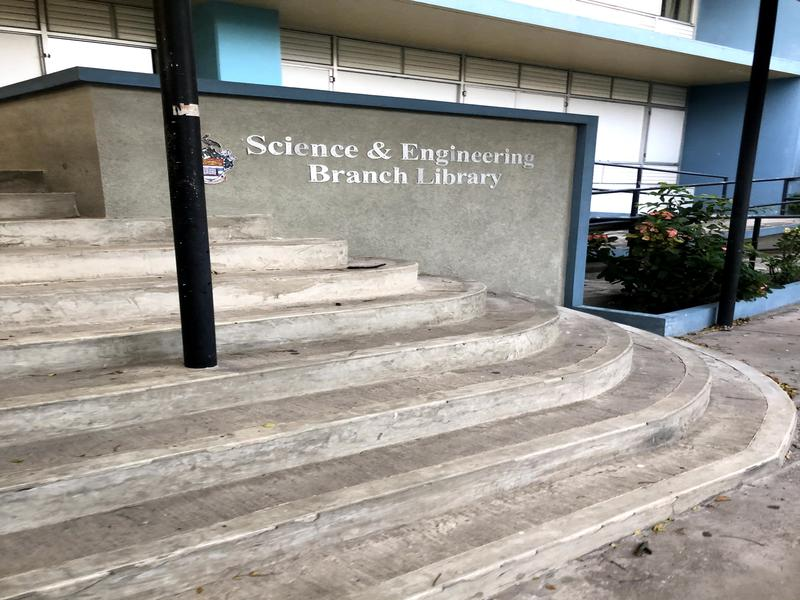18.0053644_-76.7493880_librarysign: (237, 122, 553, 206)
